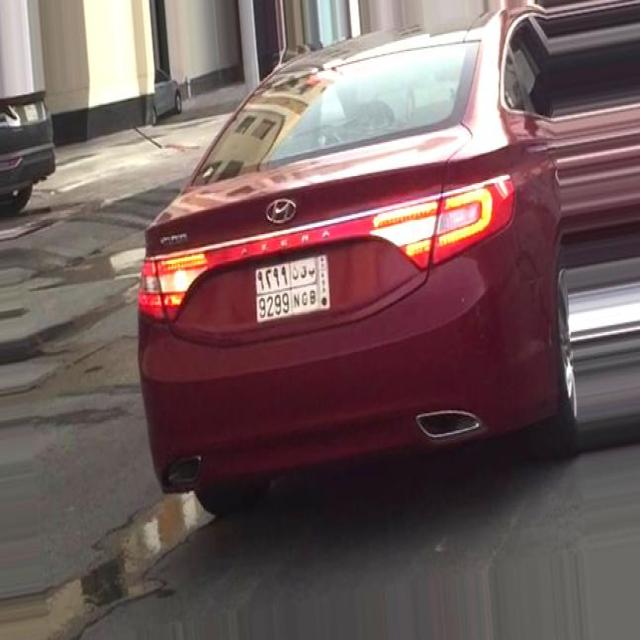Car-plate: (248, 246, 342, 342)
